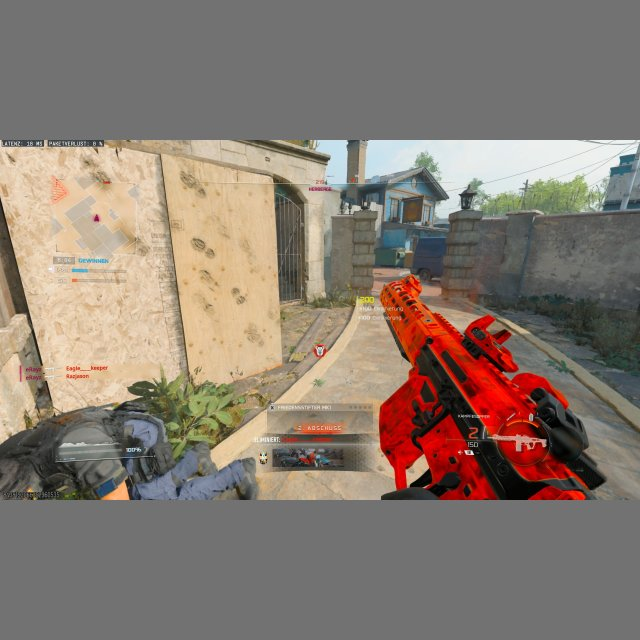player: (1, 397, 259, 500)
